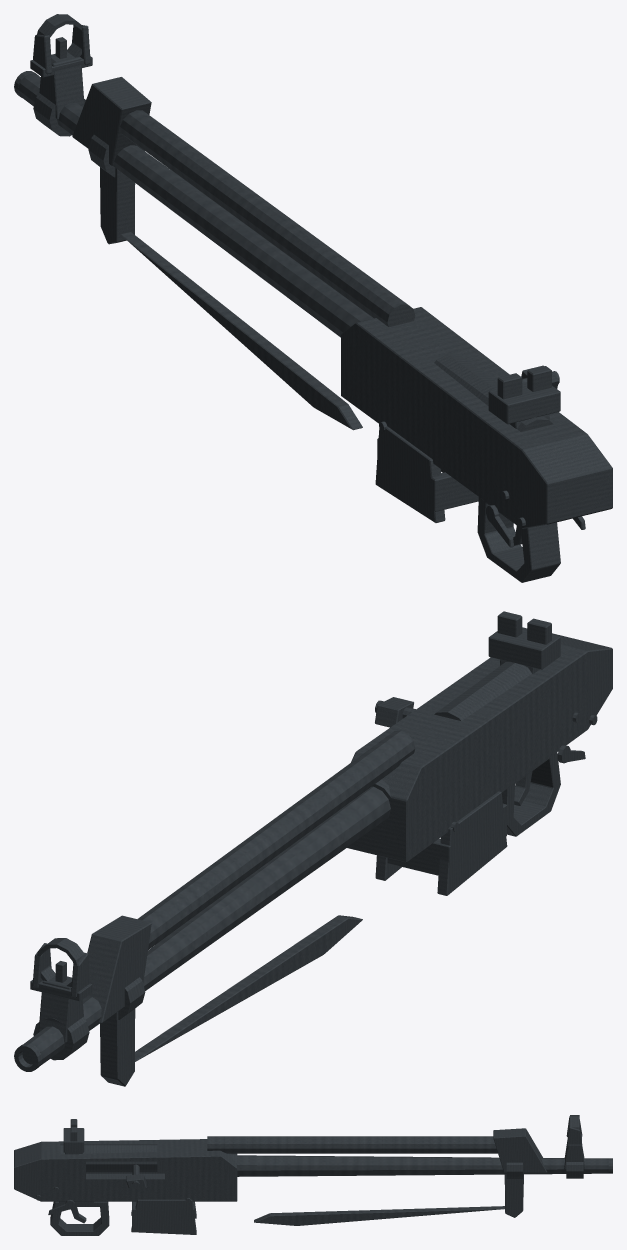
Rendered from weapon_sks.glb.
The picture shows the model from 3 angles, top to bottom: view 1: azimuth 30°, elevation 25°; view 2: azimuth 150°, elevation 25°; view 3: azimuth 270°, elevation 25°; orthographic projection. The views are drawn at different scales.
Parts seen in each view (by area): view 1: body_LOD0, action_LOD0; view 2: body_LOD0, action_LOD0; view 3: body_LOD0, action_LOD0.
Boxes of the visible parts, x1,y1,x2,y2 form: body_LOD0: (14,14,612,582); action_LOD0: (434,354,559,431); body_LOD0: (14,611,612,1086); action_LOD0: (375,662,531,727); body_LOD0: (14,1115,612,1235); action_LOD0: (60,1144,157,1188).
Size of what is drawn, in the model's own units: 0.1455 by 0.235 by 1.1.
Materials: 1 (1 with a texture image).
